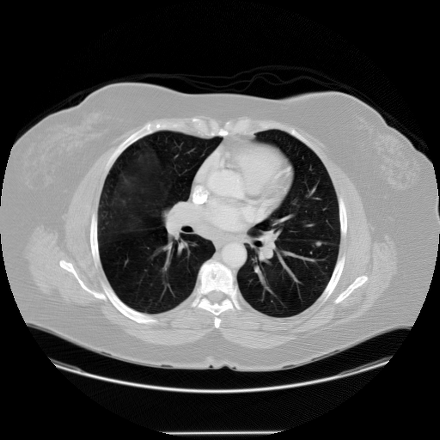nodule: (315, 241, 321, 247)
